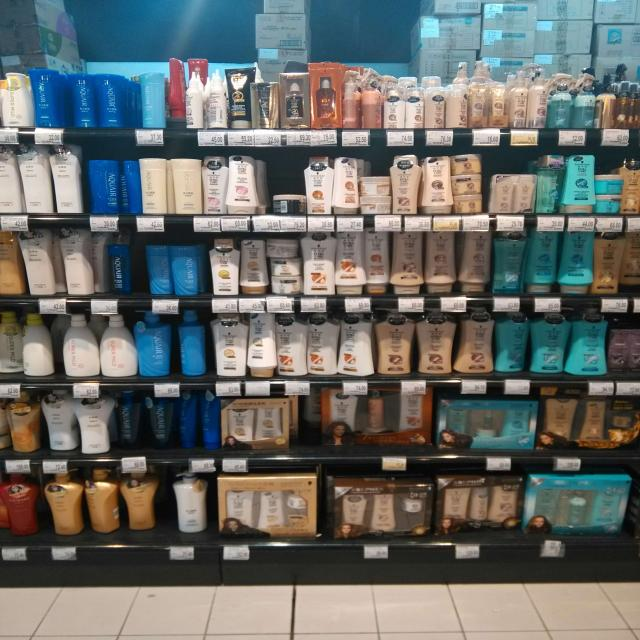unorganised: (4, 470, 210, 543), (318, 389, 436, 457), (436, 477, 526, 544), (222, 398, 299, 455), (168, 58, 228, 131), (1, 313, 61, 378), (66, 74, 129, 132), (117, 393, 175, 453), (179, 393, 221, 454), (173, 315, 210, 380), (40, 391, 76, 456), (495, 318, 532, 378), (460, 233, 493, 296), (345, 76, 382, 130), (136, 71, 167, 131), (363, 234, 393, 295), (238, 239, 270, 296), (105, 237, 136, 295), (141, 160, 170, 212), (357, 174, 393, 214), (147, 244, 172, 297), (118, 160, 139, 212), (271, 187, 307, 216), (625, 236, 640, 299)
